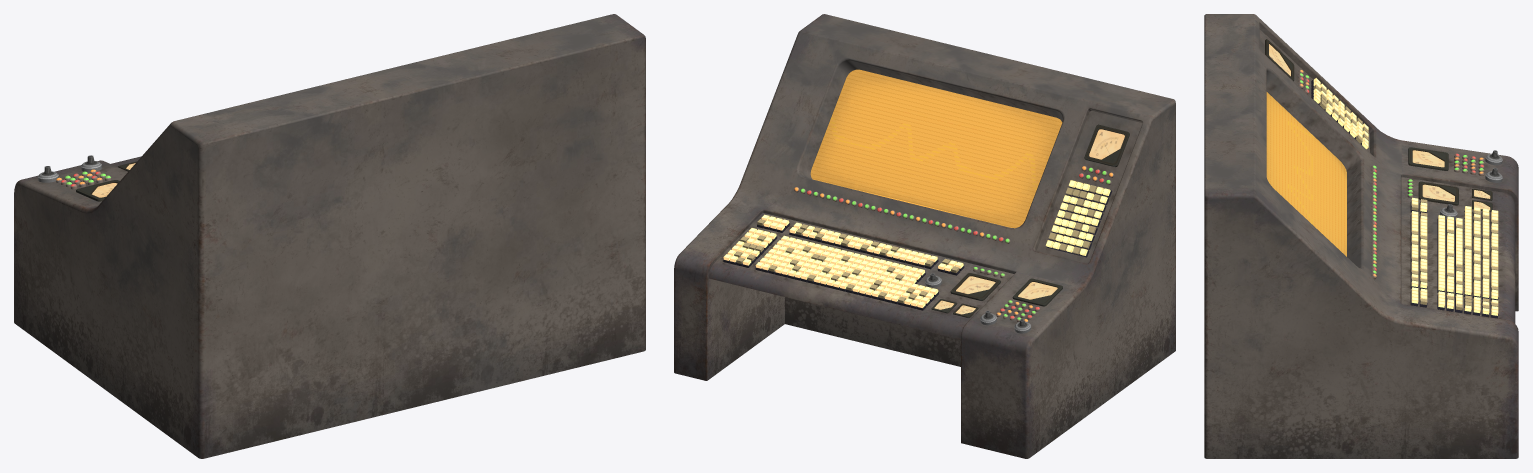
Rendered from cockpit_pc.glb.
3 renders of one model, left to right at view 1: azimuth 30°, elevation 25°; view 2: azimuth 150°, elevation 25°; view 3: azimuth 270°, elevation 25°, orthographic. The views are drawn at different scales.
Visible parts, largest first — view 1: SM_PcBase_Low; view 2: SM_PcBase_Low, SM_PcScreen_Low, SM_GlassScreen _Low; view 3: SM_PcBase_Low, SM_PcScreen_Low, SM_GlassScreen _Low.
Part boxes in pixels (x1,y1,x2,y2): SM_PcBase_Low: (14, 14, 645, 458); SM_PcBase_Low: (674, 14, 1175, 458); SM_PcScreen_Low: (810, 69, 1062, 228); SM_GlassScreen _Low: (811, 70, 1124, 296); SM_PcBase_Low: (1204, 14, 1518, 458); SM_PcScreen_Low: (1266, 92, 1346, 256); SM_GlassScreen _Low: (1267, 43, 1485, 258).
Bounding box in the file's own units: 1.9 × 1.28 × 1.38.
Materials: 3 (3 with a texture image).
